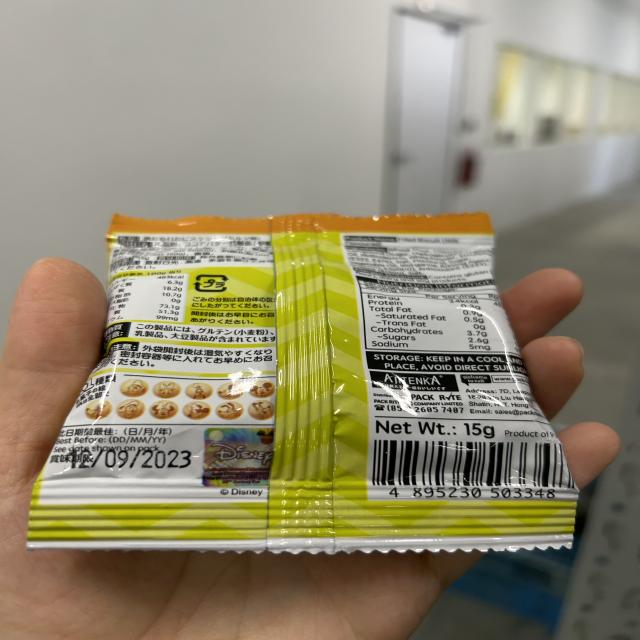object_name: (108, 225, 523, 543)
